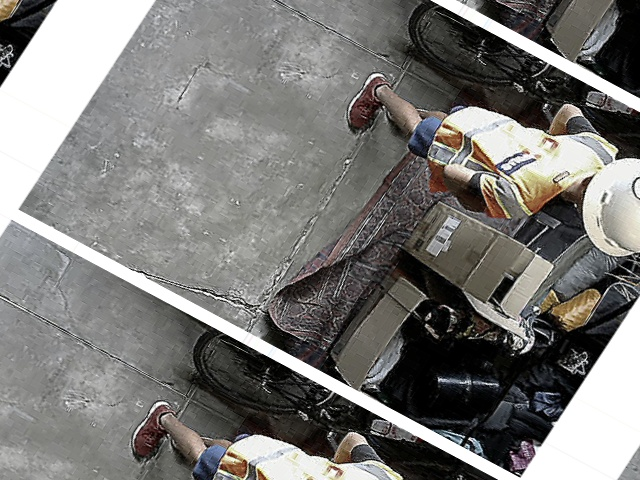one: (627, 170, 639, 210)
